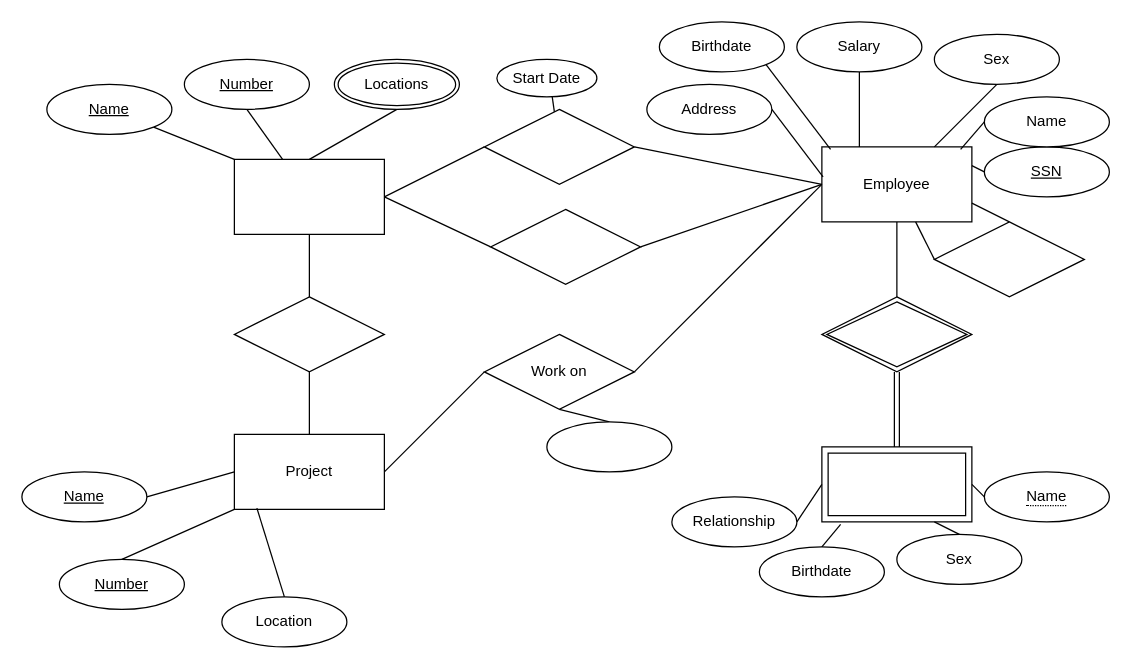
This 1131x669 diagram has some shape labels left out. The centre of each missing label's shape, as x and y in pixels:
Assigned: pixel 565 246
Control: pixel 308 334
Department: pixel 308 196
Dependant: pixel 896 484
Hours: pixel 609 446
Manage: pixel 558 146
Supervise: pixel 1008 259
